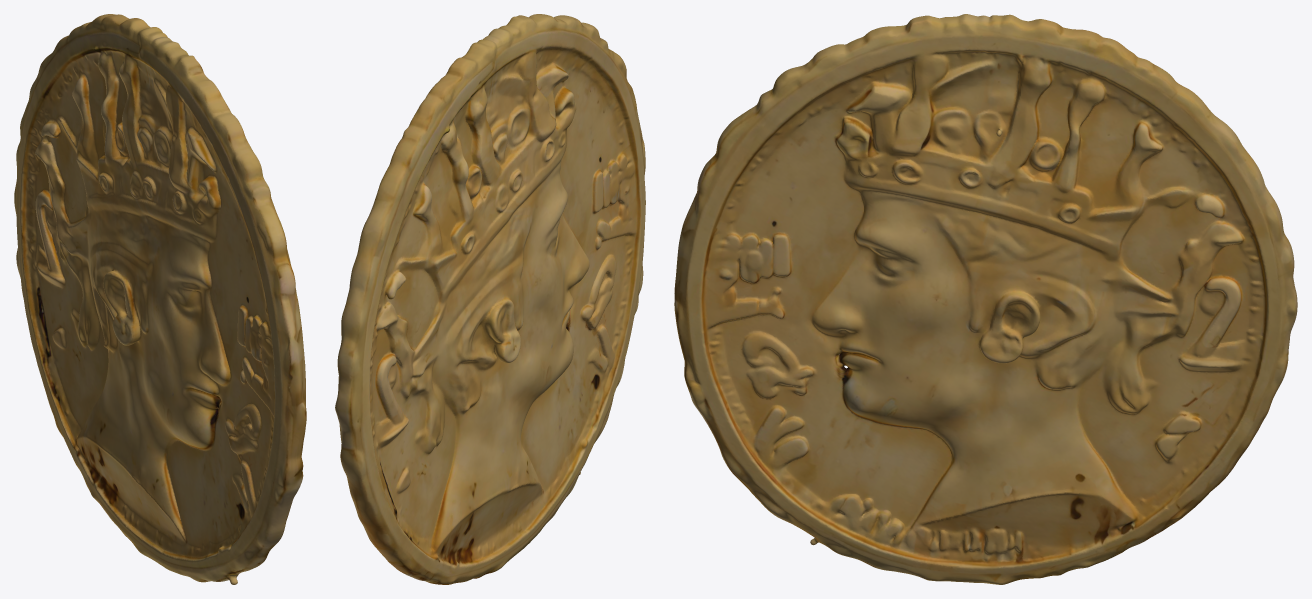
File: coin.glb
3 views of the same model, side by side, from view 1: azimuth 30°, elevation 25°; view 2: azimuth 150°, elevation 25°; view 3: azimuth 270°, elevation 25° (orthographic). The views are drawn at different scales.
Parts seen in each view (by area): view 1: tripo_node_9395139b-c025-4dbe-b854-6ba658d42c86; view 2: tripo_node_9395139b-c025-4dbe-b854-6ba658d42c86; view 3: tripo_node_9395139b-c025-4dbe-b854-6ba658d42c86.
Boxes of the visible parts, x1=… form: tripo_node_9395139b-c025-4dbe-b854-6ba658d42c86: x1=14, y1=14, x2=306, y2=584; tripo_node_9395139b-c025-4dbe-b854-6ba658d42c86: x1=335, y1=14, x2=645, y2=584; tripo_node_9395139b-c025-4dbe-b854-6ba658d42c86: x1=674, y1=14, x2=1297, y2=584.
Size of the model in its own units: 0.121 by 1 by 0.9966.
1 material, 1 textured.
